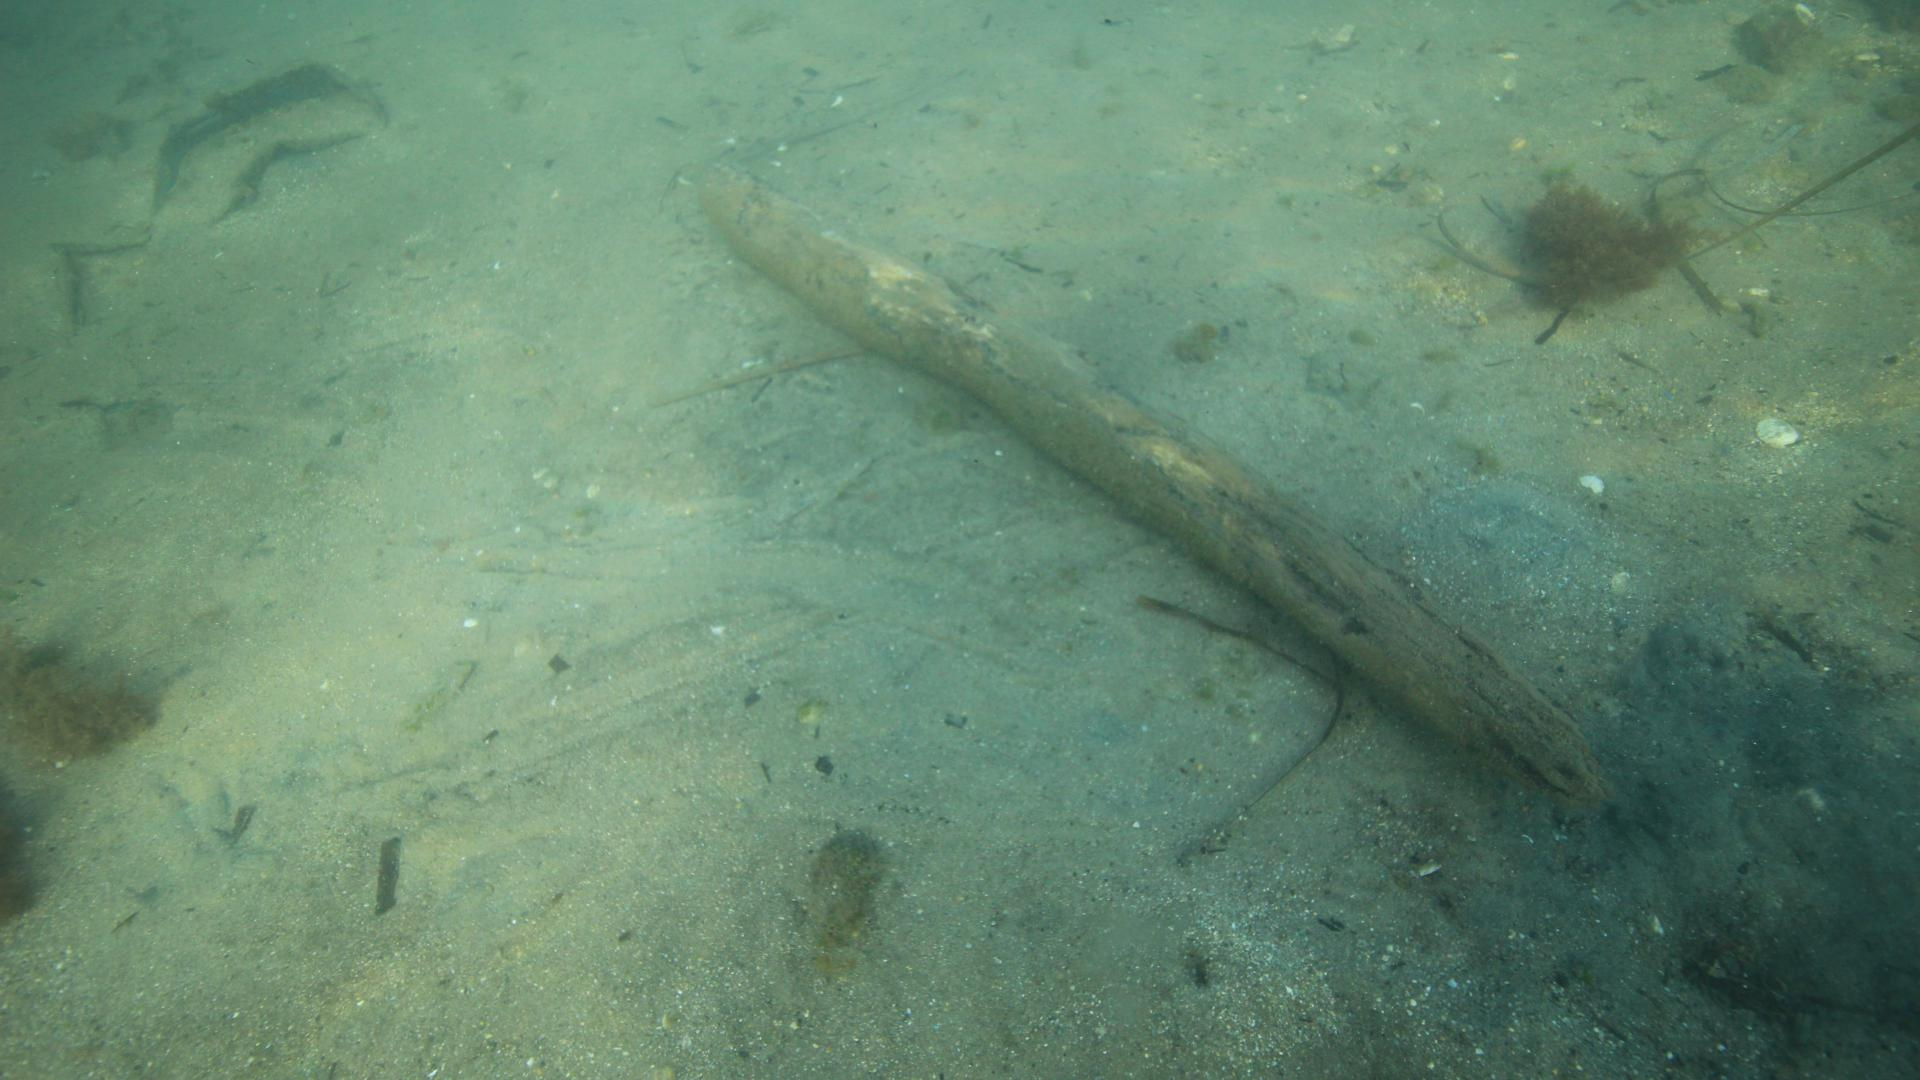wood: (683, 152, 1590, 803)
